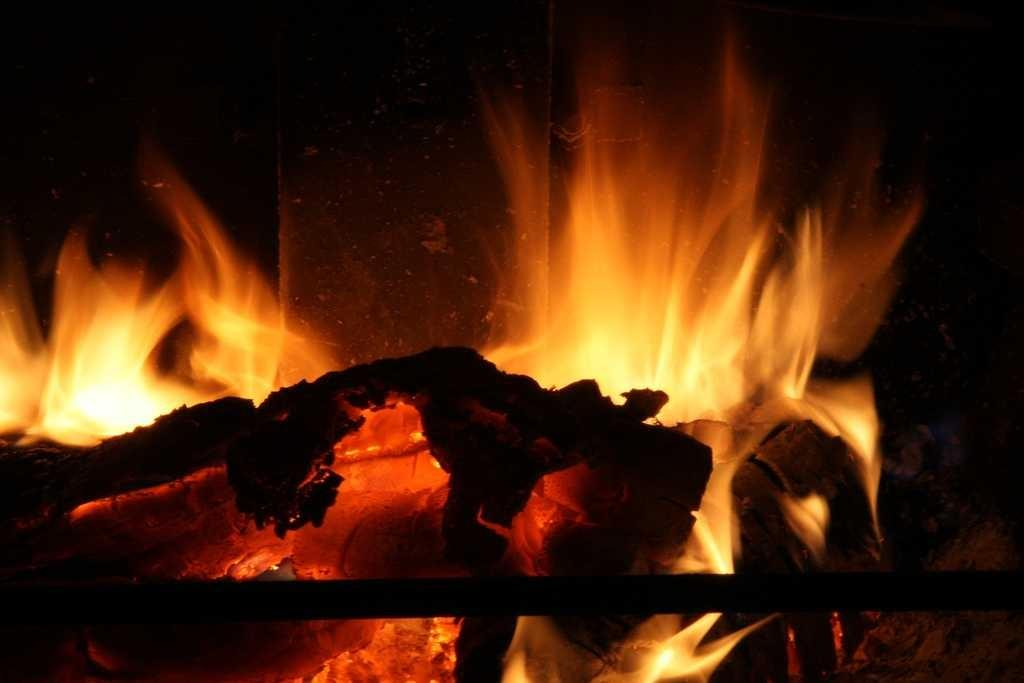fire: (550, 255, 757, 397), (62, 307, 158, 428)
